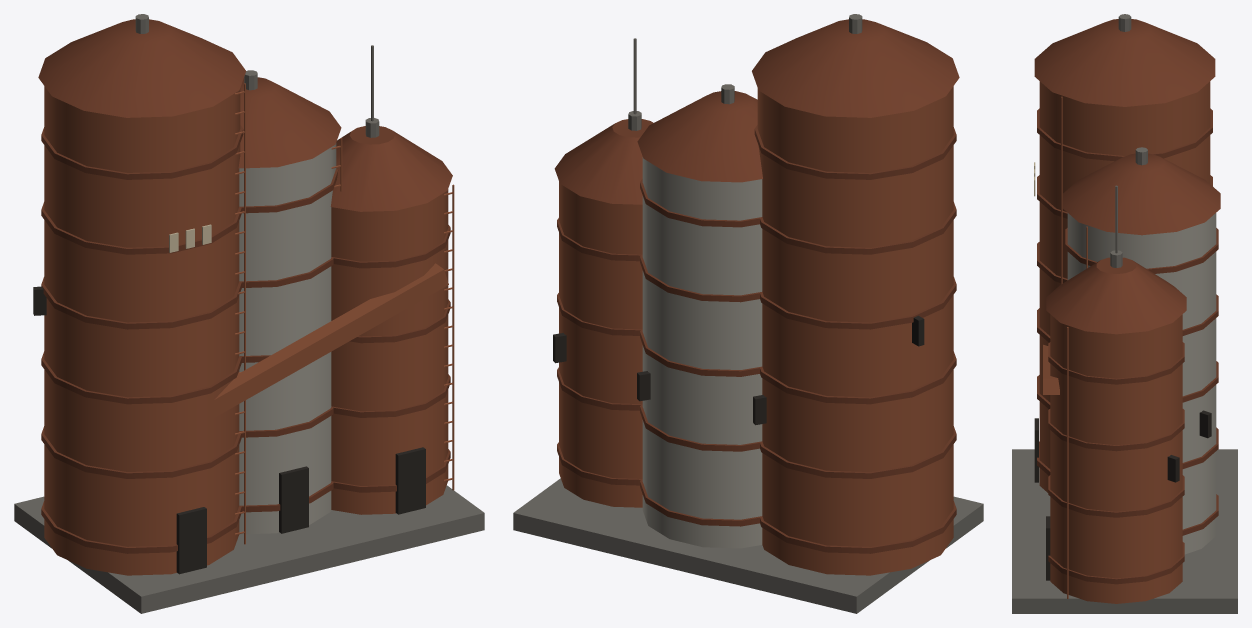
The model's file is V_SiloCluster.glb.
3 renders of one model, left to right at view 1: azimuth 30°, elevation 25°; view 2: azimuth 150°, elevation 25°; view 3: azimuth 270°, elevation 25°, orthographic. The views are drawn at different scales.
Visible parts, largest first — view 1: V_SiloCluster_Structure, V_SiloCluster_Roof, V_SiloCluster_Foundation, V_SiloCluster_Fixtures, V_SiloCluster_Openings, V_SiloCluster_Props; view 2: V_SiloCluster_Structure, V_SiloCluster_Roof, V_SiloCluster_Foundation, V_SiloCluster_Openings; view 3: V_SiloCluster_Structure, V_SiloCluster_Roof, V_SiloCluster_Foundation, V_SiloCluster_Fixtures, V_SiloCluster_Openings.
Part boxes in pixels (box(x1,y1,x2,y2)): V_SiloCluster_Structure: box(41, 86, 450, 575); V_SiloCluster_Roof: box(38, 14, 452, 211); V_SiloCluster_Foundation: box(14, 485, 484, 613); V_SiloCluster_Fixtures: box(214, 83, 454, 544); V_SiloCluster_Openings: box(33, 286, 425, 574); V_SiloCluster_Props: box(169, 45, 373, 252); V_SiloCluster_Structure: box(557, 86, 956, 575); V_SiloCluster_Roof: box(554, 14, 959, 204); V_SiloCluster_Foundation: box(513, 478, 983, 613); V_SiloCluster_Openings: box(553, 315, 924, 425); V_SiloCluster_Structure: box(1037, 81, 1218, 603); V_SiloCluster_Roof: box(1034, 14, 1220, 334); V_SiloCluster_Foundation: box(1012, 449, 1237, 613); V_SiloCluster_Fixtures: box(1043, 96, 1087, 598); V_SiloCluster_Openings: box(1034, 410, 1211, 580).
Bounding box in the file's own units: 14.03 × 18.6 × 8.
